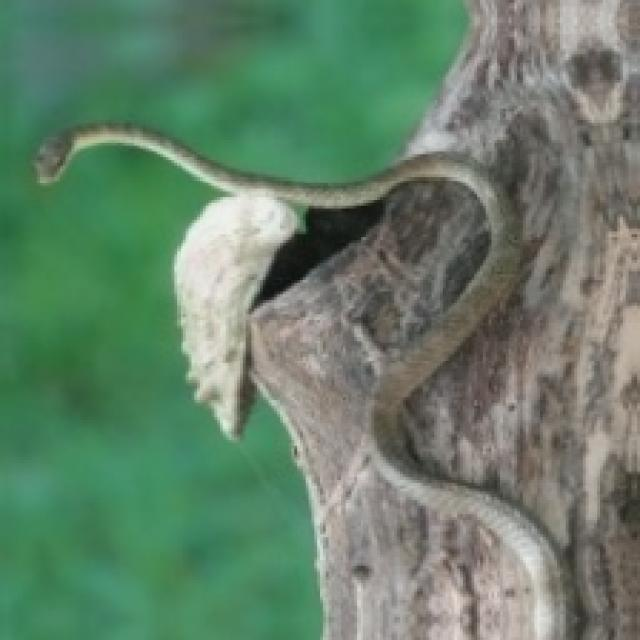paradise tree snake: (34, 123, 569, 637)
